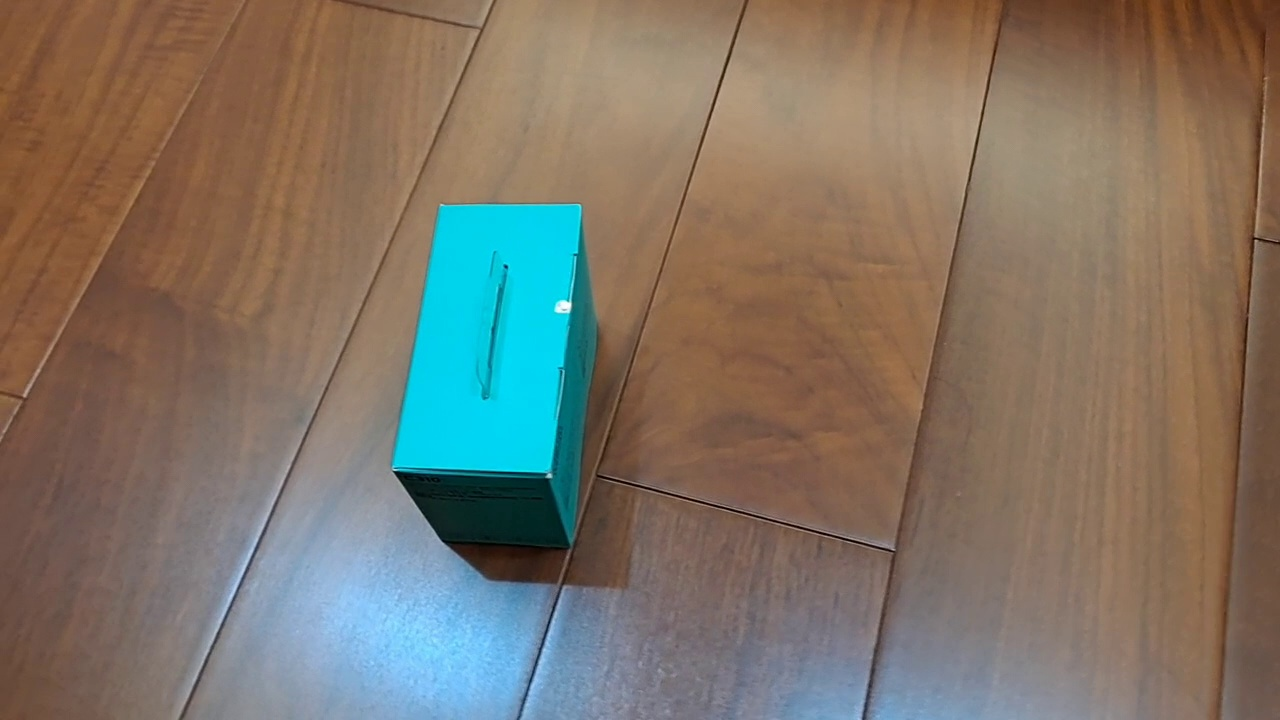webcam: (390, 201, 600, 550)
